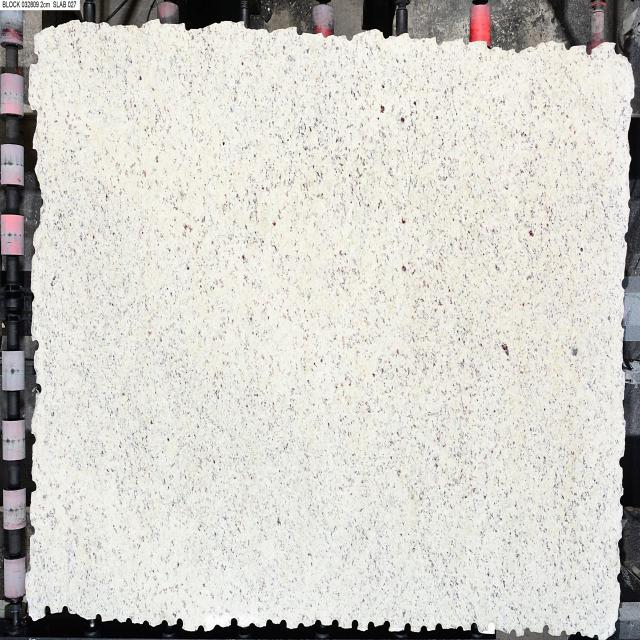chapa: (26, 18, 634, 636)
veio: (30, 338, 40, 354), (330, 618, 342, 630), (30, 51, 40, 65), (34, 382, 43, 397), (468, 621, 479, 633), (487, 621, 498, 633), (434, 36, 444, 49), (30, 478, 38, 494), (350, 617, 359, 631), (367, 618, 376, 632), (584, 43, 593, 56), (43, 604, 52, 616), (279, 617, 288, 629), (382, 618, 391, 630), (403, 621, 412, 633), (229, 616, 239, 626), (61, 605, 70, 616), (28, 524, 36, 536), (94, 612, 102, 624), (175, 618, 184, 628), (265, 618, 274, 628), (434, 621, 442, 632), (542, 624, 550, 635)
